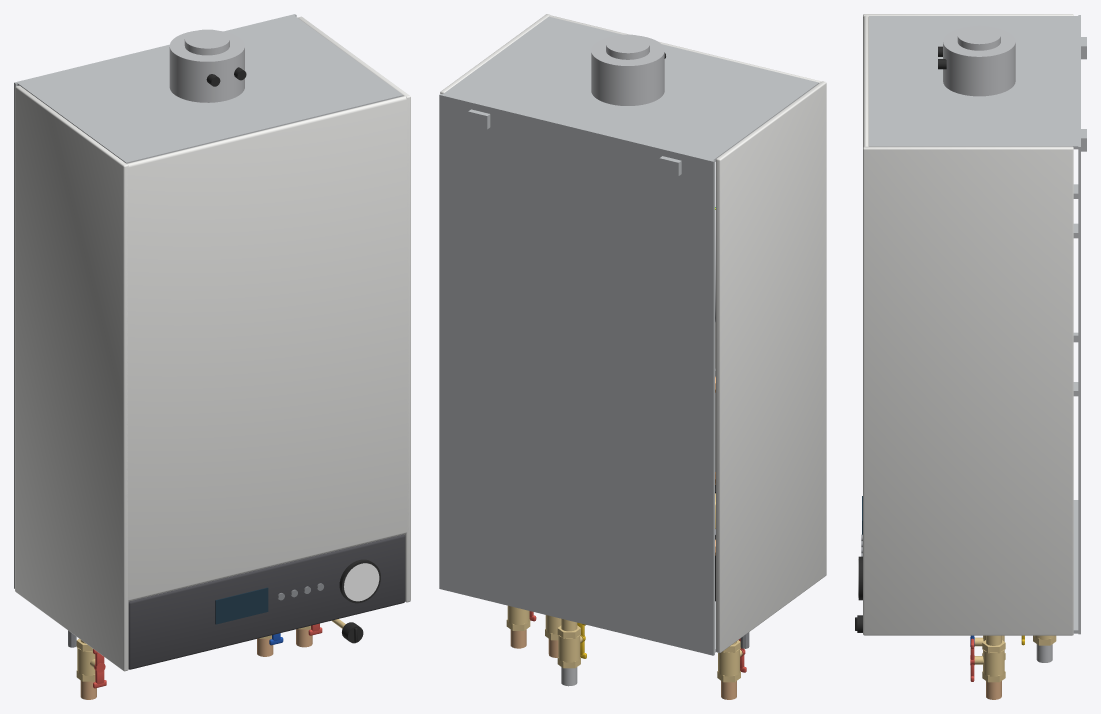
The model's file is caldaia.glb.
3 views of the same model, side by side, from view 1: azimuth 30°, elevation 25°; view 2: azimuth 150°, elevation 25°; view 3: azimuth 270°, elevation 25° (orthographic). The views are drawn at different scales.
Parts seen in each view (by area): view 1: casing, frame, control-panel, flue-connection, pressure-gauge, installation-pipes, flow-tap; view 2: frame, casing, flue-connection, installation-pipes, gas-tap, flow-tap; view 3: casing, frame, flue-connection, return-tap, installation-pipes.
Part boxes in pixels (box(x1,y1,x2,y2)): casing: box(15, 16, 410, 671); frame: box(14, 14, 403, 588); control-panel: box(128, 534, 405, 669); flue-connection: box(169, 29, 244, 102); pressure-gauge: box(339, 559, 380, 603); installation-pipes: box(80, 629, 312, 699); flow-tap: box(76, 638, 95, 681); frame: box(439, 16, 818, 655); casing: box(440, 14, 826, 652); flue-connection: box(591, 34, 664, 105); installation-pipes: box(510, 629, 736, 699); gas-tap: box(557, 625, 582, 668); flow-tap: box(717, 640, 742, 682); casing: box(863, 14, 1073, 635); frame: box(869, 15, 1086, 634); flue-connection: box(943, 25, 1015, 96); return-tap: box(974, 640, 1005, 682); installation-pipes: box(986, 644, 1052, 699).
Bounding box in the file's own units: 0.44 × 0.93 × 0.319.
